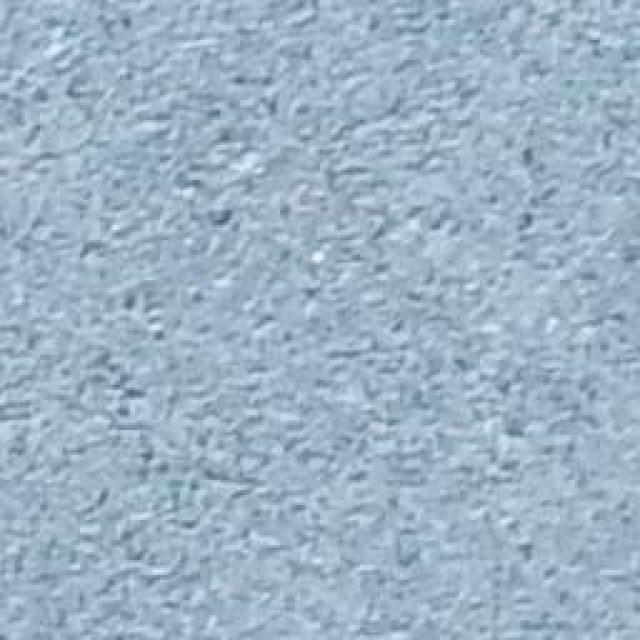concrete-crack: (8, 148, 610, 432)
